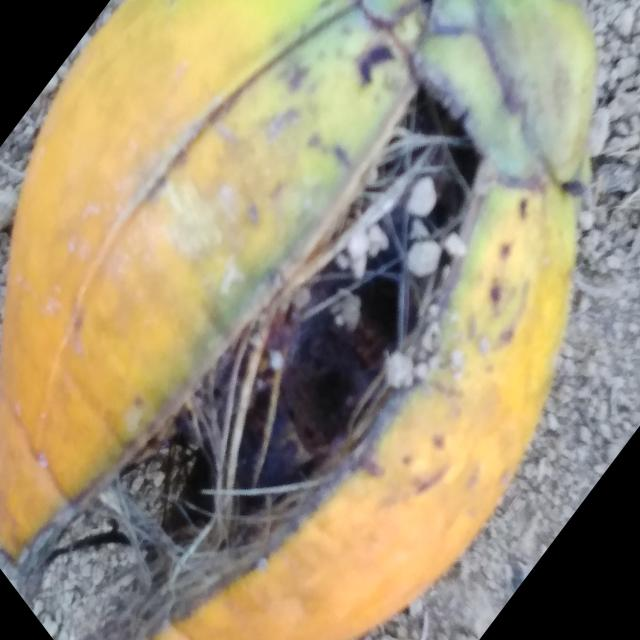damaged: (0, 0, 598, 640)
